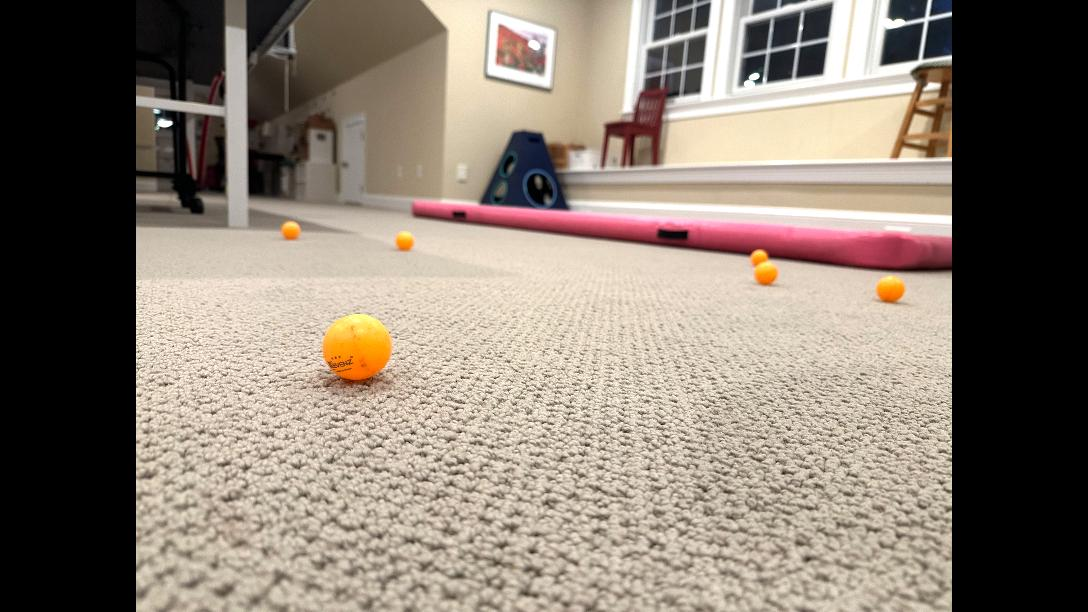Table-Tennis-Ball: (323, 314, 391, 380), (878, 276, 905, 302), (754, 262, 778, 284), (283, 220, 299, 238), (396, 232, 414, 248), (751, 249, 767, 263)
